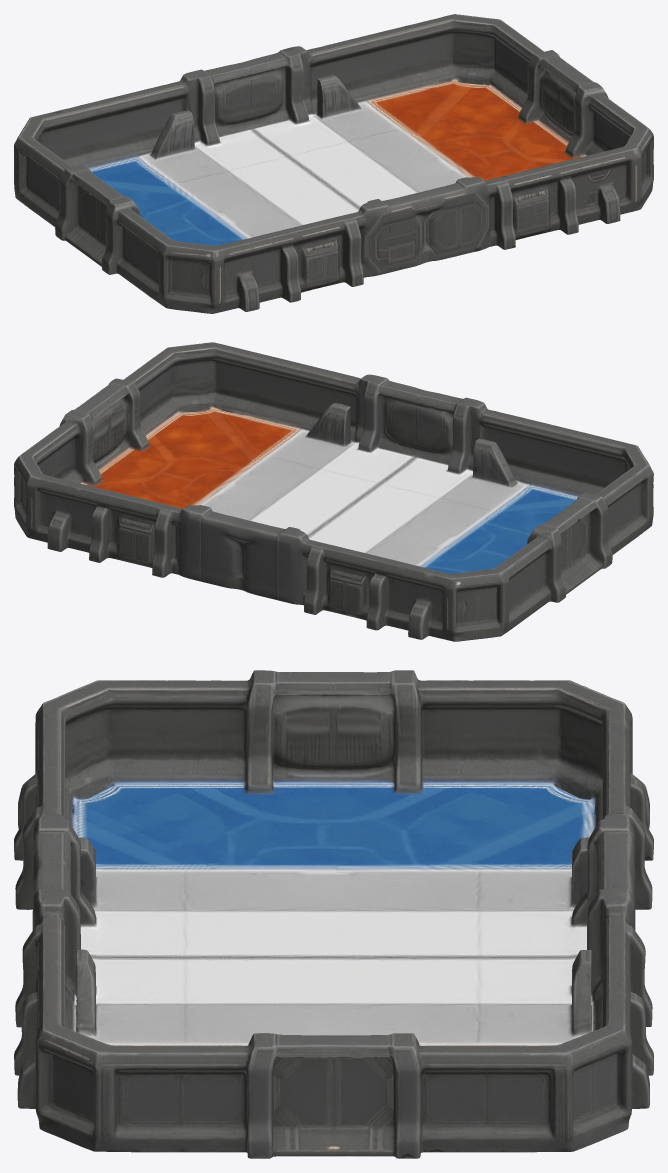
The model's file is Meshy_AI_Neon_Arena_Platform_1027175121_texture.glb.
3 renders of one model, top to bottom at view 1: azimuth 30°, elevation 25°; view 2: azimuth 150°, elevation 25°; view 3: azimuth 270°, elevation 25°, orthographic. The views are drawn at different scales.
Bounding box in the file's own units: 1.9 × 0.241 × 1.32.
1 material, 1 textured.
